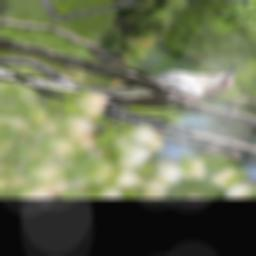Cuckoo: (22, 17, 247, 133)
